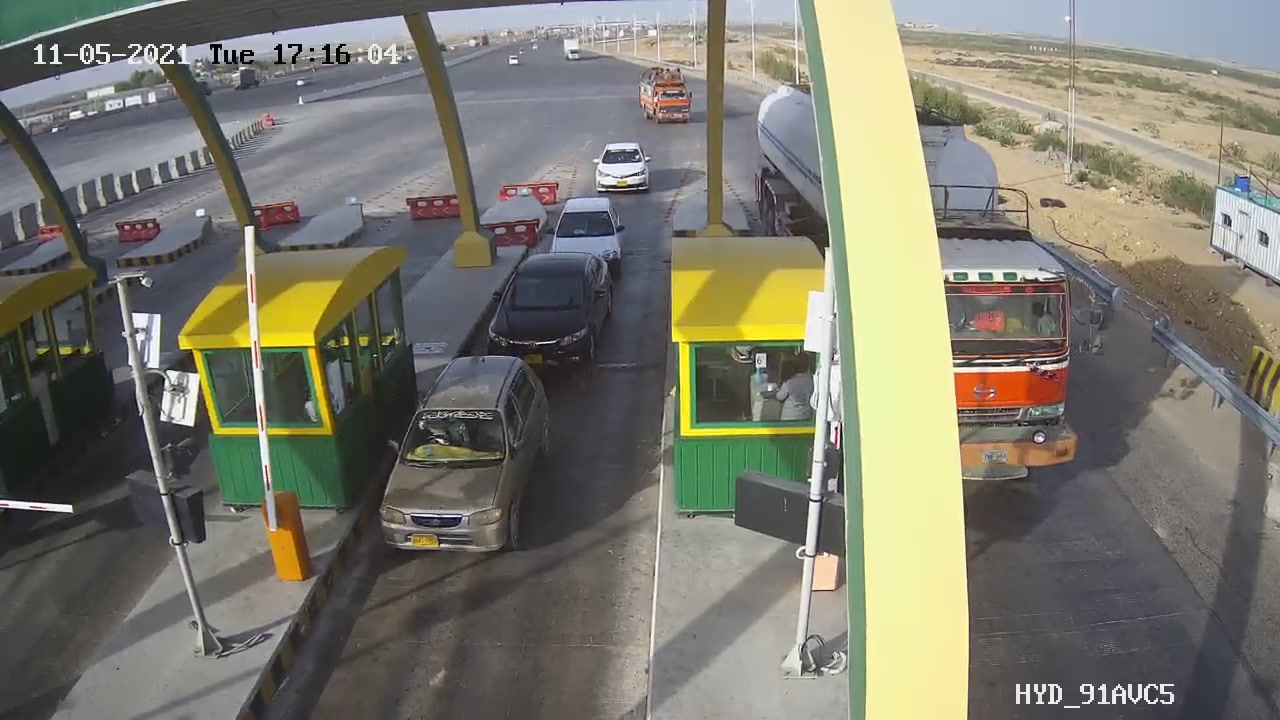F1: (366, 342, 572, 570), (470, 243, 629, 382)
